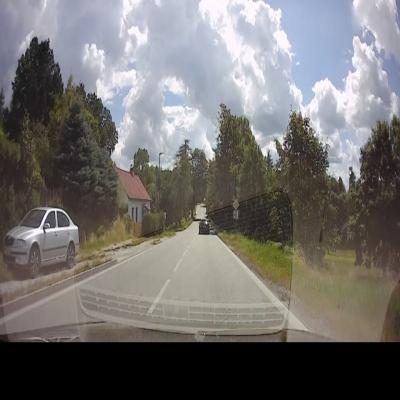clear-road: (88, 222, 269, 304)
